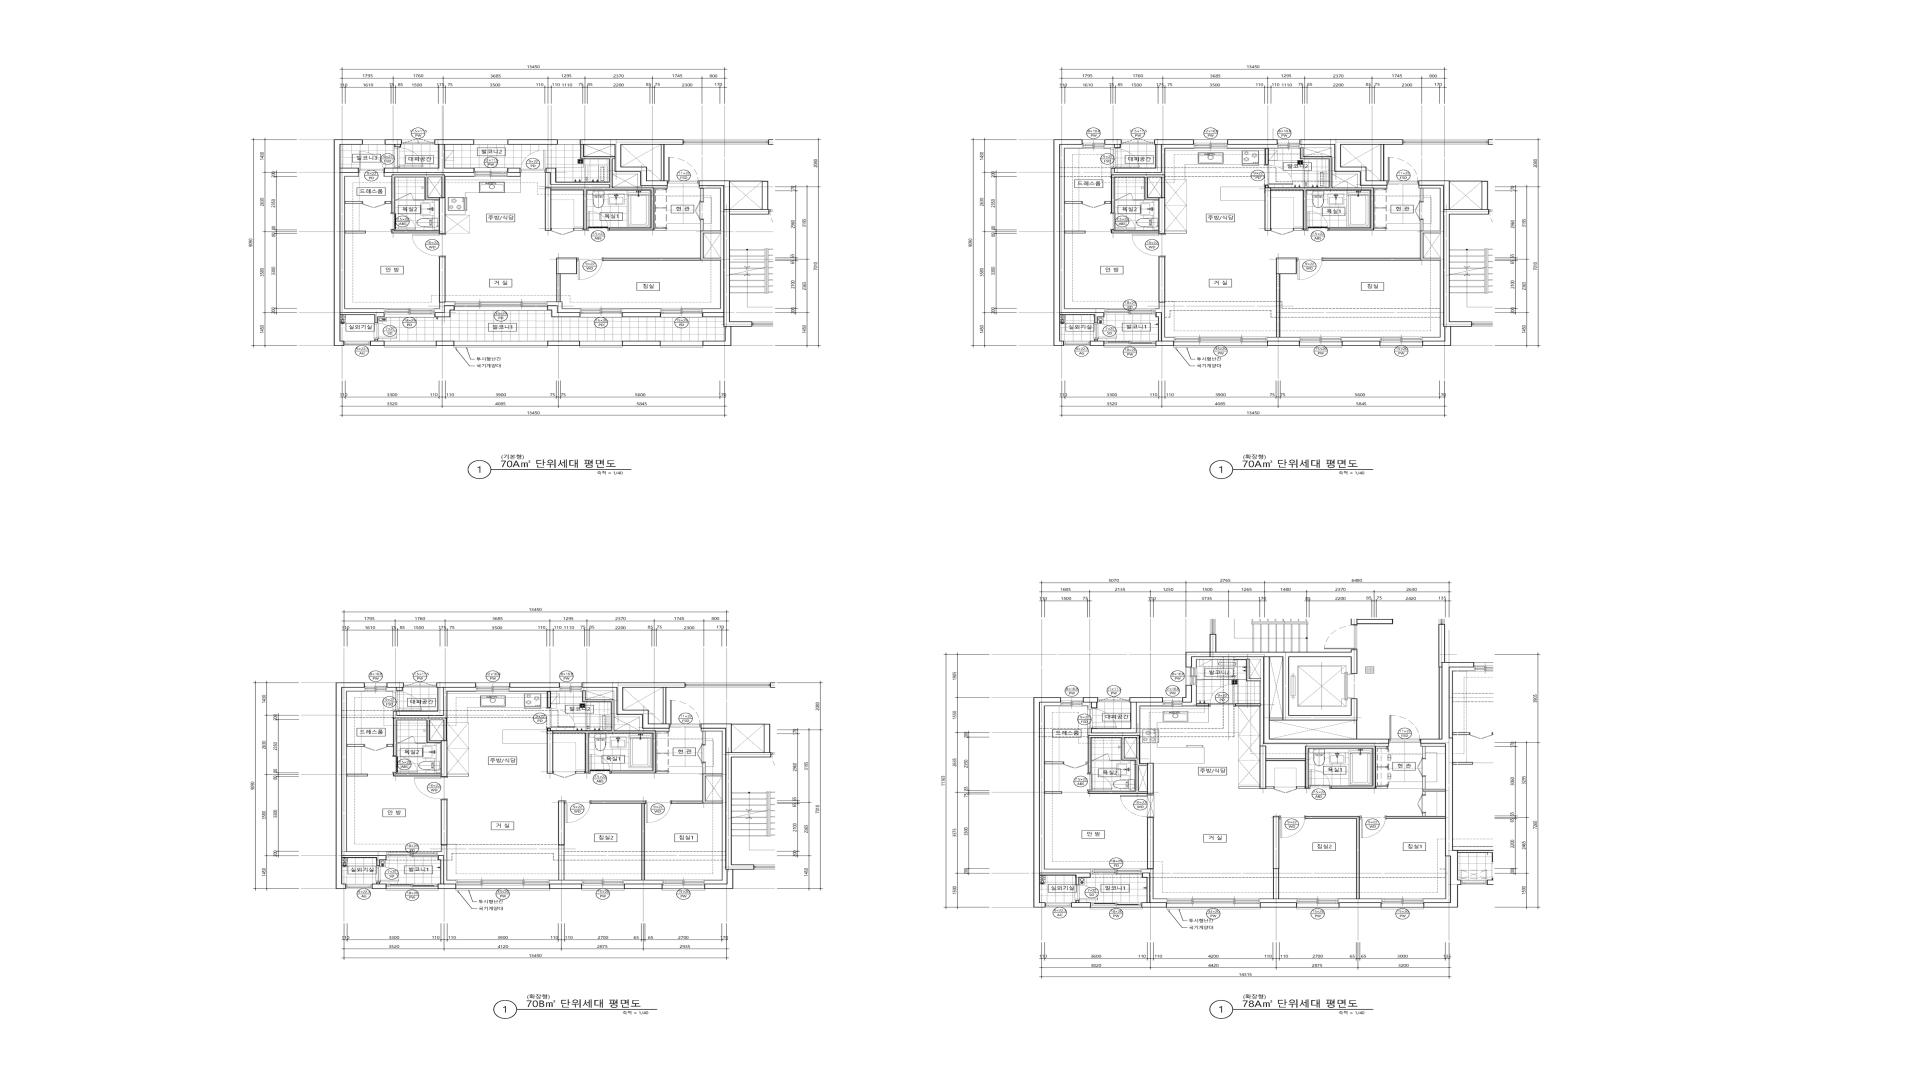door: (1389, 715, 1420, 741), (1387, 157, 1419, 183), (667, 157, 699, 183), (669, 700, 700, 727), (1324, 625, 1357, 650), (1120, 794, 1154, 818), (413, 233, 446, 257), (1133, 233, 1166, 257), (1265, 165, 1294, 186), (1209, 684, 1236, 707), (1279, 816, 1305, 839), (1360, 816, 1386, 839), (564, 800, 591, 823), (645, 800, 671, 823), (520, 150, 546, 173), (1088, 708, 1117, 728), (394, 148, 423, 167), (1110, 148, 1139, 167), (1296, 258, 1323, 280), (576, 258, 603, 280), (547, 708, 575, 728), (393, 691, 421, 711), (359, 152, 384, 173), (1307, 211, 1329, 231), (587, 211, 609, 231), (1308, 770, 1331, 789), (588, 754, 611, 773), (1088, 774, 1112, 791), (393, 756, 417, 773), (392, 214, 415, 229), (1076, 885, 1098, 901), (1095, 323, 1117, 339), (375, 323, 397, 339), (377, 866, 398, 882), (695, 200, 704, 220), (1063, 762, 1087, 769), (1081, 202, 1105, 208), (553, 771, 576, 778), (1274, 786, 1296, 793), (1271, 228, 1294, 235), (551, 228, 574, 235), (363, 202, 385, 208), (1092, 753, 1110, 761), (1418, 758, 1425, 777), (1415, 202, 1423, 220), (397, 736, 415, 744), (1418, 795, 1425, 812), (1116, 193, 1133, 200), (396, 193, 413, 200), (698, 745, 705, 762), (364, 745, 386, 750)
wall: (1185, 634, 1389, 744), (1386, 624, 1458, 907), (1192, 657, 1390, 758), (1323, 186, 1445, 342), (1034, 698, 1091, 907), (700, 724, 771, 889), (1419, 181, 1489, 345), (699, 181, 769, 345), (335, 683, 386, 889), (1054, 140, 1104, 345), (334, 140, 384, 345), (1271, 145, 1387, 231), (545, 145, 654, 231), (547, 691, 657, 774), (1040, 703, 1091, 873), (342, 687, 386, 856), (340, 173, 384, 313), (1259, 746, 1377, 789), (582, 683, 686, 729), (603, 220, 720, 261), (1300, 140, 1403, 186), (580, 140, 683, 186), (1305, 816, 1360, 899), (591, 800, 645, 880), (702, 729, 727, 884), (582, 687, 670, 731), (1088, 736, 1154, 794), (393, 717, 447, 777), (699, 186, 724, 313), (1110, 140, 1195, 175), (384, 140, 475, 173), (397, 683, 476, 716), (1091, 698, 1163, 733), (393, 687, 476, 717), (1088, 703, 1163, 736), (1105, 175, 1166, 214), (1267, 274, 1299, 342), (392, 174, 444, 214), (613, 160, 667, 187), (1424, 856, 1451, 903), (550, 845, 582, 884), (1228, 145, 1278, 165), (1142, 873, 1167, 907), (1142, 869, 1167, 902), (1155, 302, 1174, 342), (438, 845, 455, 884), (1155, 313, 1174, 345), (438, 856, 455, 889), (1273, 816, 1279, 899), (1423, 233, 1441, 258), (1423, 777, 1445, 795), (705, 777, 723, 800), (1420, 744, 1445, 758), (384, 173, 475, 177), (547, 306, 580, 316), (547, 302, 580, 313), (1147, 818, 1154, 869), (1276, 257, 1296, 274), (556, 257, 576, 274), (1183, 684, 1197, 707), (1246, 659, 1261, 680), (440, 799, 447, 845), (439, 257, 446, 302), (1159, 257, 1166, 302), (1265, 186, 1271, 231), (430, 720, 443, 742), (558, 800, 564, 845), (1350, 618, 1394, 625), (1303, 148, 1332, 157), (1228, 140, 1278, 145), (508, 140, 558, 145), (1125, 737, 1137, 758), (1159, 198, 1166, 233), (439, 198, 446, 233), (1338, 902, 1381, 907), (435, 306, 455, 316), (435, 302, 455, 313), (624, 884, 662, 889), (509, 687, 559, 691), (509, 683, 559, 687), (392, 229, 439, 233), (1112, 229, 1159, 233), (1261, 902, 1296, 907), (1183, 684, 1192, 703), (1338, 899, 1381, 903), (550, 884, 582, 889), (1083, 698, 1098, 708), (624, 880, 662, 884), (1342, 342, 1381, 345), (1342, 338, 1381, 342), (622, 309, 661, 313), (622, 342, 661, 345), (622, 313, 661, 316), (661, 145, 665, 181), (1381, 145, 1385, 181), (385, 140, 402, 148), (1105, 140, 1122, 148), (386, 683, 404, 691), (1071, 901, 1091, 907), (1267, 342, 1299, 345), (547, 342, 579, 345), (671, 800, 703, 804), (508, 167, 520, 177), (556, 274, 560, 302), (663, 687, 666, 724), (372, 882, 386, 889), (1261, 899, 1296, 902), (1091, 339, 1104, 345), (371, 339, 384, 345), (436, 342, 454, 345), (547, 691, 551, 708), (1236, 704, 1261, 707), (1064, 231, 1085, 233), (1166, 231, 1187, 233), (447, 774, 468, 777), (1238, 786, 1259, 789), (345, 231, 365, 233), (700, 189, 704, 202), (1064, 202, 1081, 204), (345, 202, 363, 204), (1449, 181, 1482, 182), (1083, 703, 1091, 708), (731, 181, 762, 182), (732, 724, 764, 725), (386, 687, 397, 691), (1105, 145, 1114, 149), (1270, 717, 1283, 720), (1196, 704, 1209, 707), (654, 228, 666, 231), (1377, 786, 1387, 789), (574, 228, 584, 231), (1296, 786, 1305, 789), (1266, 786, 1274, 789), (385, 202, 392, 204), (386, 744, 393, 746), (413, 199, 425, 200), (657, 771, 669, 773), (1133, 199, 1143, 200), (415, 742, 426, 744), (1110, 760, 1121, 761), (576, 771, 585, 773), (1423, 812, 1425, 816), (1087, 762, 1088, 765), (1357, 720, 1357, 738)
window: (1166, 899, 1261, 910), (455, 880, 550, 890), (1174, 338, 1267, 348), (455, 302, 547, 310), (454, 342, 547, 348), (1381, 898, 1424, 910), (1091, 869, 1142, 878), (384, 309, 435, 318), (1379, 338, 1423, 348), (1299, 338, 1342, 348), (1296, 899, 1338, 910), (662, 880, 704, 890), (582, 880, 624, 890), (1091, 902, 1142, 910), (661, 309, 703, 318), (580, 309, 622, 318), (1104, 342, 1156, 348), (384, 342, 436, 348), (1193, 140, 1228, 149), (475, 167, 508, 177), (579, 342, 622, 348), (661, 342, 703, 348), (386, 852, 438, 857), (386, 885, 438, 890), (1104, 309, 1155, 314), (476, 683, 509, 691), (1098, 696, 1130, 703), (1122, 138, 1154, 145), (402, 138, 434, 145), (1060, 698, 1083, 707), (1278, 140, 1300, 149), (1083, 140, 1105, 149), (1185, 667, 1197, 684), (1163, 698, 1183, 707), (473, 140, 508, 145), (559, 683, 582, 691), (364, 683, 386, 691), (404, 682, 436, 687), (363, 140, 385, 145), (558, 140, 580, 145), (345, 885, 372, 889), (344, 342, 371, 345), (1064, 342, 1091, 345), (1046, 903, 1071, 907)
